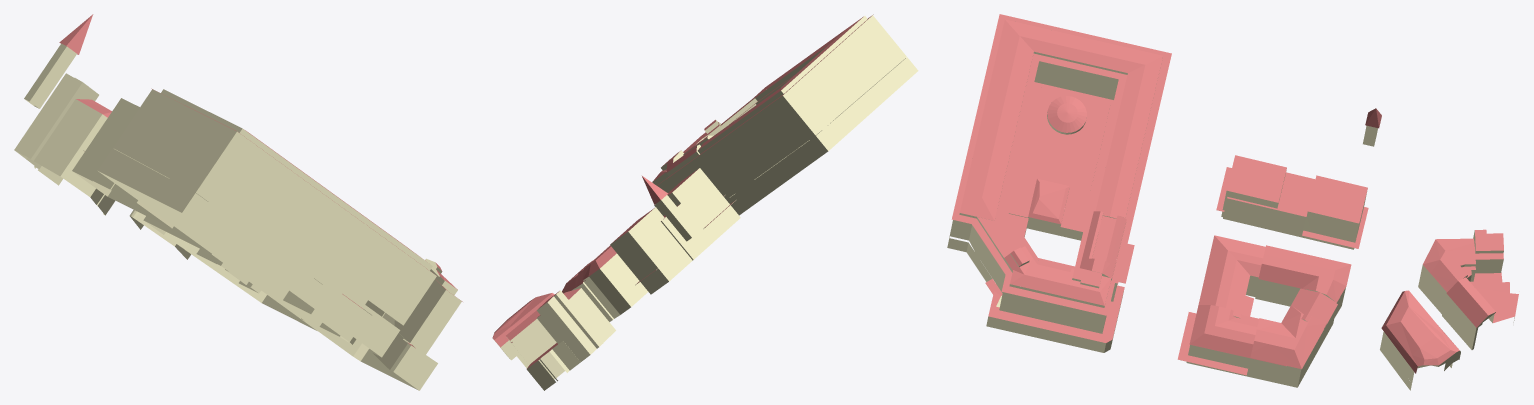
File: tile_008.glb
3 views of the same model, side by side, from view 1: azimuth 30°, elevation 25°; view 2: azimuth 150°, elevation 25°; view 3: azimuth 270°, elevation 25° (orthographic). The views are drawn at different scales.
Visible parts, largest first — view 1: Batched_Building_ID_1F99ED51-1A80-48AC-8EEC-37EA5CE02801, Batched_Building_ID_ABAD56EE-805C-4193-A6B1-99D2AB6BB854; view 2: Batched_Building_ID_1F99ED51-1A80-48AC-8EEC-37EA5CE02801, Batched_Building_ID_ABAD56EE-805C-4193-A6B1-99D2AB6BB854; view 3: Batched_Building_ID_ABAD56EE-805C-4193-A6B1-99D2AB6BB854, Batched_Building_ID_1F99ED51-1A80-48AC-8EEC-37EA5CE02801.
Boxes of the visible parts, x1,y1,x2,y2 form: Batched_Building_ID_1F99ED51-1A80-48AC-8EEC-37EA5CE02801: [14, 43, 461, 390]; Batched_Building_ID_ABAD56EE-805C-4193-A6B1-99D2AB6BB854: [59, 14, 462, 348]; Batched_Building_ID_1F99ED51-1A80-48AC-8EEC-37EA5CE02801: [493, 15, 918, 390]; Batched_Building_ID_ABAD56EE-805C-4193-A6B1-99D2AB6BB854: [492, 14, 873, 368]; Batched_Building_ID_ABAD56EE-805C-4193-A6B1-99D2AB6BB854: [951, 14, 1518, 375]; Batched_Building_ID_1F99ED51-1A80-48AC-8EEC-37EA5CE02801: [947, 51, 1514, 390].
Size of the model in its own units: 111 by 123 by 216.
